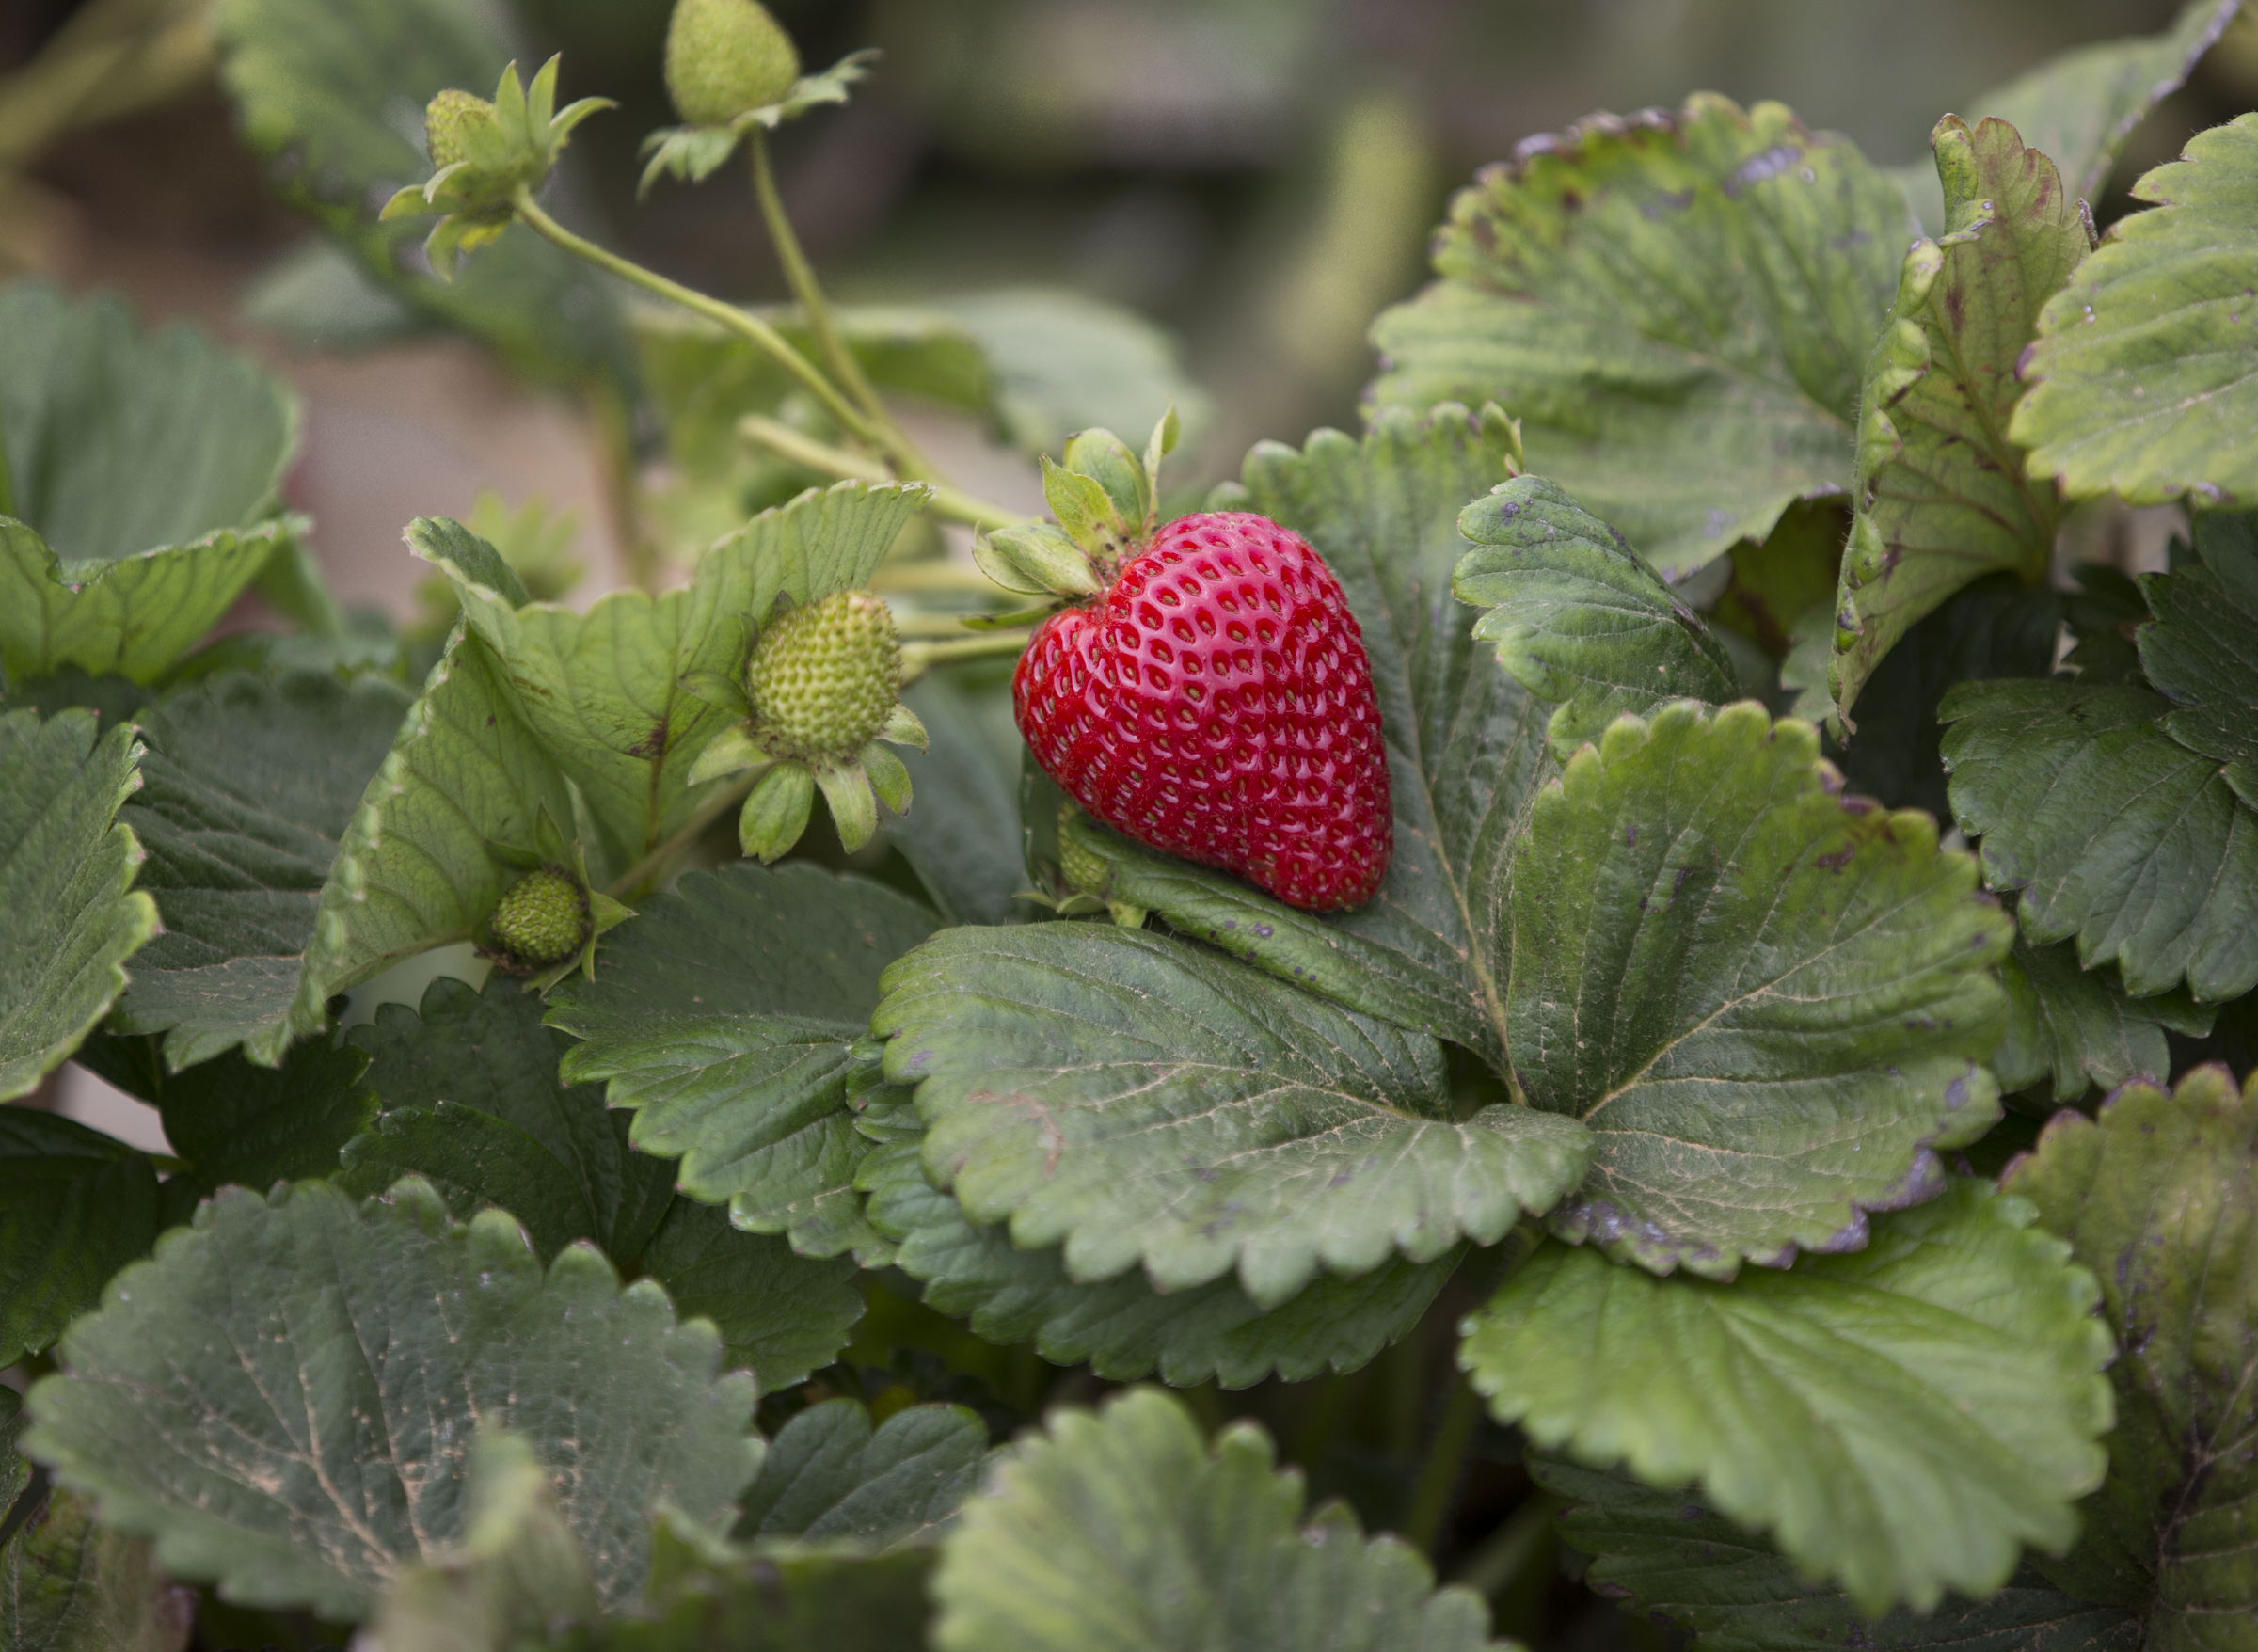ripe_strawberry: (1008, 509, 1402, 922)
unripe_strawberry: (740, 577, 906, 773), (657, 2, 806, 137), (419, 84, 557, 214), (482, 854, 608, 979)
